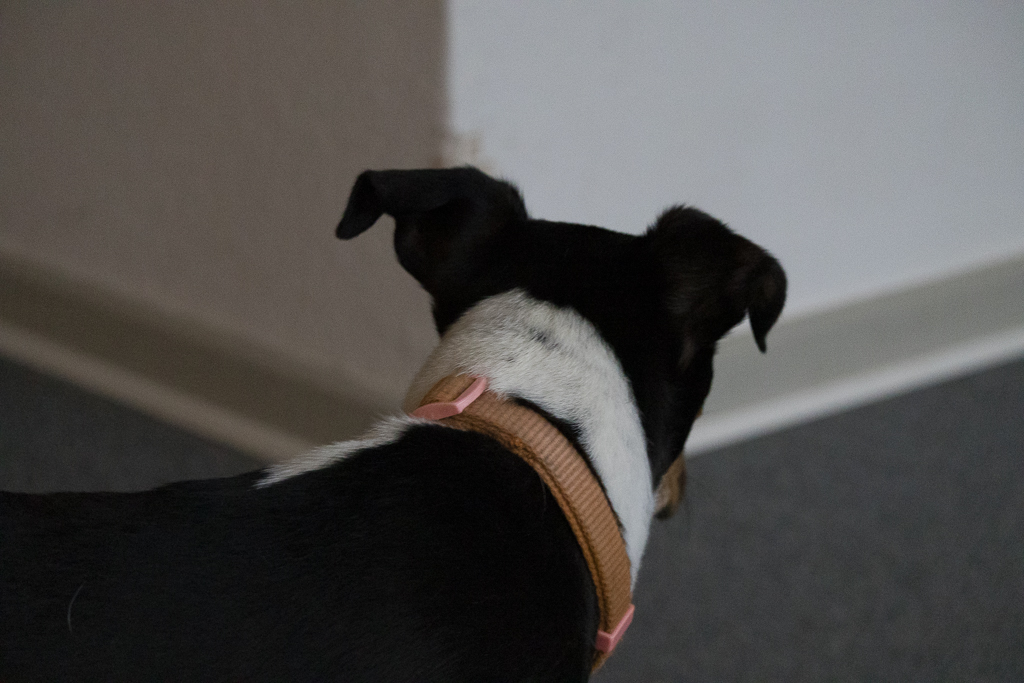Dog: (0, 156, 800, 683)
